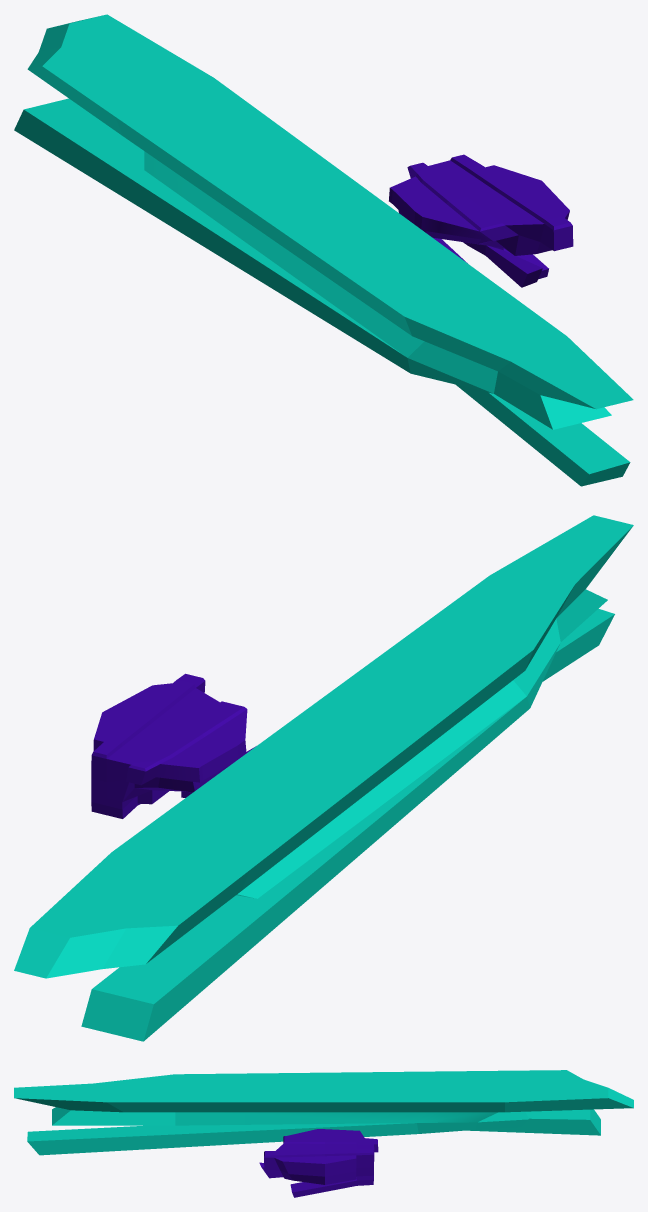
The model's file is reworks_2.fbx.
3 renders of one model, top to bottom at view 1: azimuth 30°, elevation 25°; view 2: azimuth 150°, elevation 25°; view 3: azimuth 270°, elevation 25°, orthographic. The views are drawn at different scales.
Parts seen in each view (by area): view 1: Long_Bridge_rework, Platform_2_rework; view 2: Long_Bridge_rework, Platform_2_rework; view 3: Long_Bridge_rework, Platform_2_rework.
Part boxes in pixels (x1=…): Long_Bridge_rework: x1=14, y1=14, x2=633, y2=486; Platform_2_rework: x1=389, y1=154, x2=573, y2=287; Long_Bridge_rework: x1=14, y1=515, x2=633, y2=1041; Platform_2_rework: x1=91, y1=673, x2=255, y2=818; Long_Bridge_rework: x1=14, y1=1070, x2=633, y2=1155; Platform_2_rework: x1=259, y1=1129, x2=378, y2=1197.
Size of the model in its own units: 743 by 243 by 2472.
